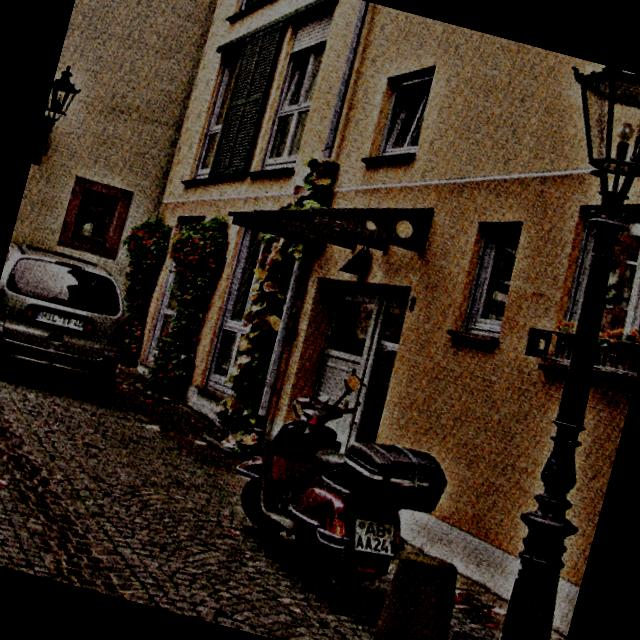Vehicle: (208, 352, 465, 614), (0, 238, 147, 406)
